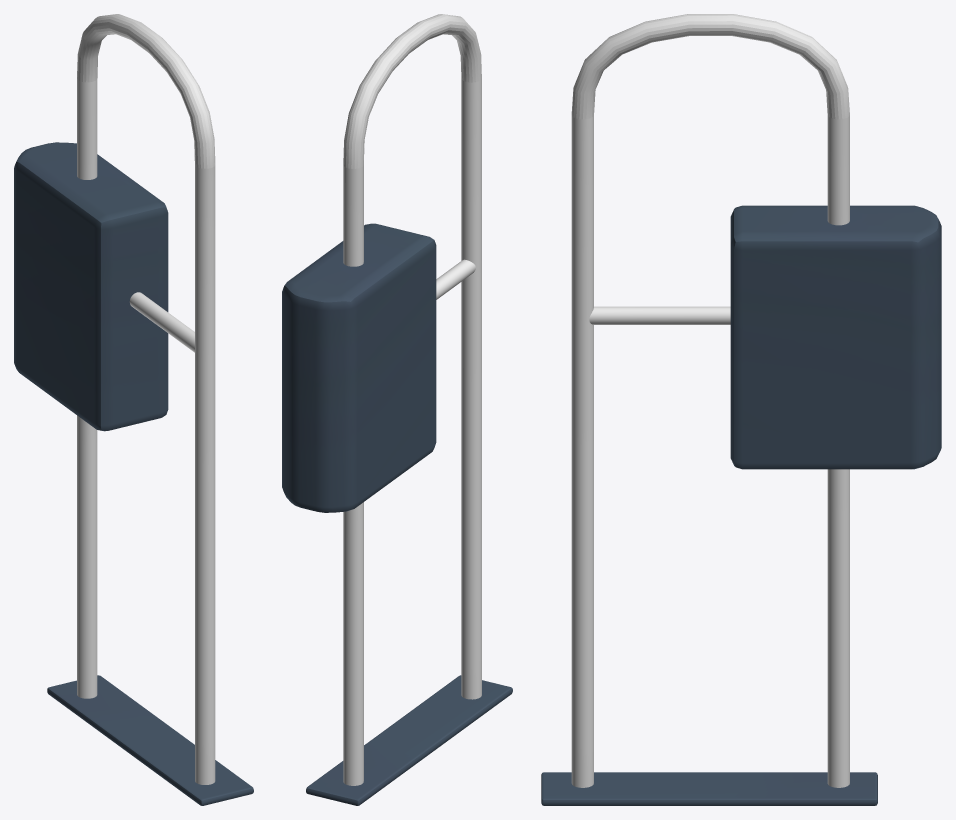
Rendered from Dedektor.fbx.
The picture shows the model from 3 angles, left to right: view 1: azimuth 30°, elevation 25°; view 2: azimuth 150°, elevation 25°; view 3: azimuth 270°, elevation 25°; orthographic projection. The views are drawn at different scales.
Visible parts, largest first — view 1: Dedektör; view 2: Dedektör; view 3: Dedektör.
Part boxes in pixels (x1=…): Dedektör: x1=14, y1=14, x2=253, y2=805; Dedektör: x1=282, y1=14, x2=512, y2=805; Dedektör: x1=541, y1=14, x2=941, y2=805.
Bounding box in the file's own units: 11.66 × 109 × 51.01.
